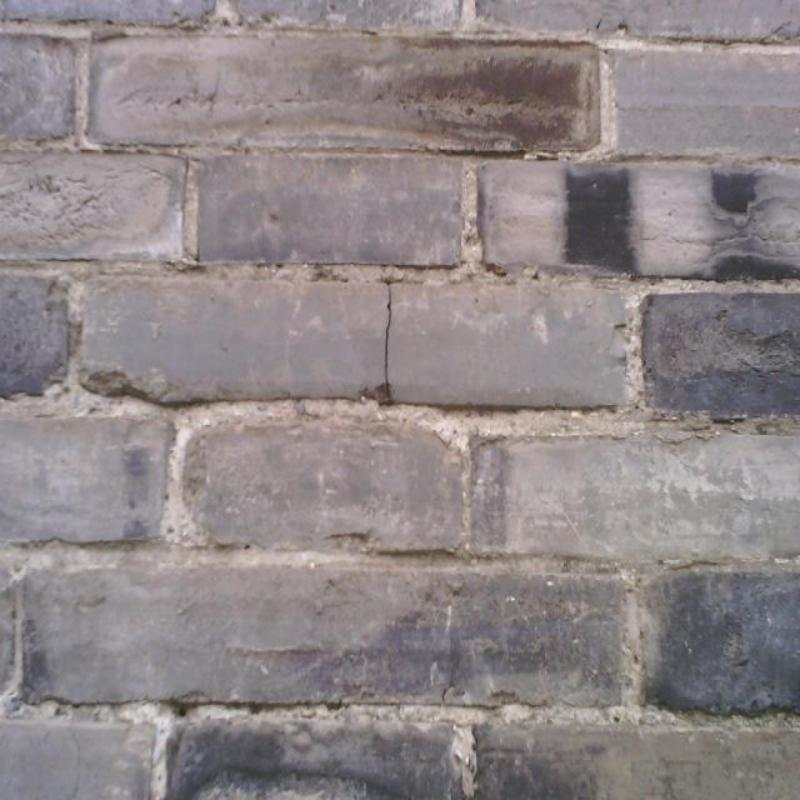pothole: (385, 286, 393, 388)
